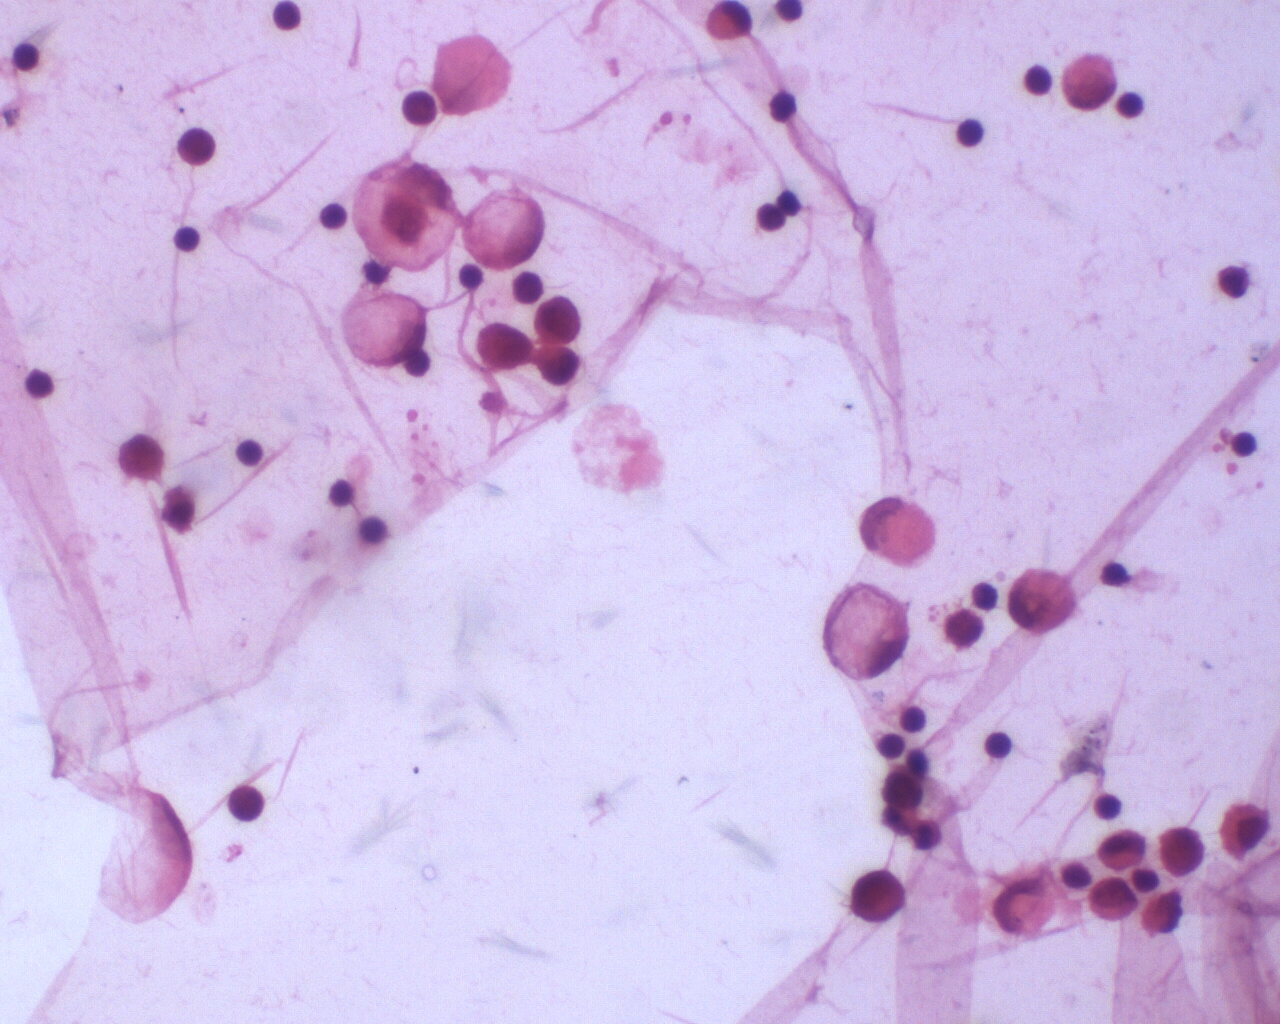ab: (850, 863, 910, 928), (473, 318, 536, 376), (1155, 819, 1205, 881), (531, 295, 588, 347), (1089, 871, 1137, 925)
histo: (820, 578, 910, 688), (463, 181, 553, 276), (336, 283, 430, 372), (858, 492, 940, 578)
lymph: (226, 784, 267, 822), (976, 725, 1018, 763), (1093, 789, 1133, 828), (953, 115, 994, 152), (1115, 85, 1151, 125), (23, 368, 60, 408), (1020, 62, 1058, 98), (167, 222, 206, 255), (270, 1, 309, 33), (899, 701, 934, 736)
